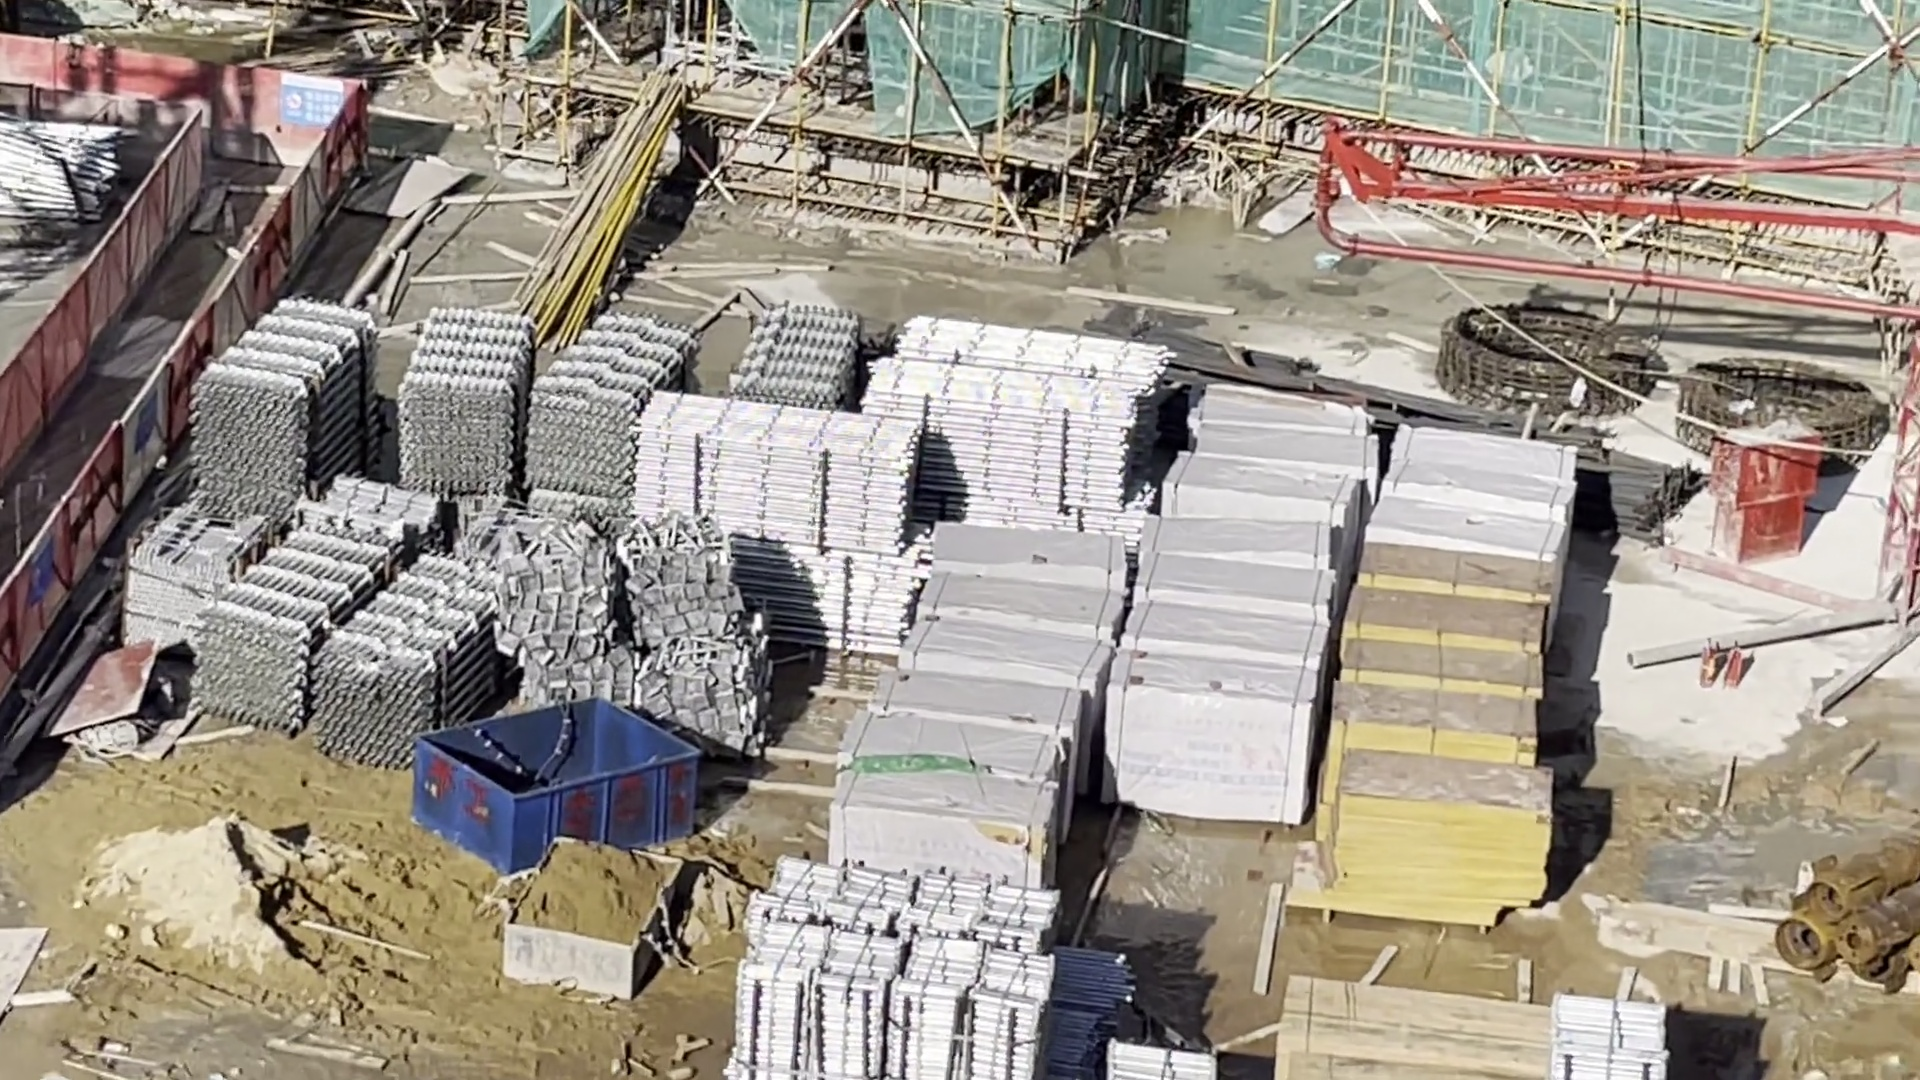board: (1336, 547, 1539, 938), (1273, 971, 1549, 1080)
fence: (1, 123, 345, 766), (1, 26, 273, 146)
hopper: (411, 700, 700, 872), (506, 837, 683, 1004)
rebar: (1244, 338, 1709, 516)
scaffold: (642, 396, 916, 661), (750, 865, 1064, 1080), (202, 530, 495, 757), (869, 324, 1174, 524), (397, 310, 691, 504), (204, 299, 375, 510), (735, 309, 856, 411), (1, 123, 112, 233), (1556, 992, 1667, 1080)
slogan: (280, 76, 344, 129), (26, 538, 61, 611)
